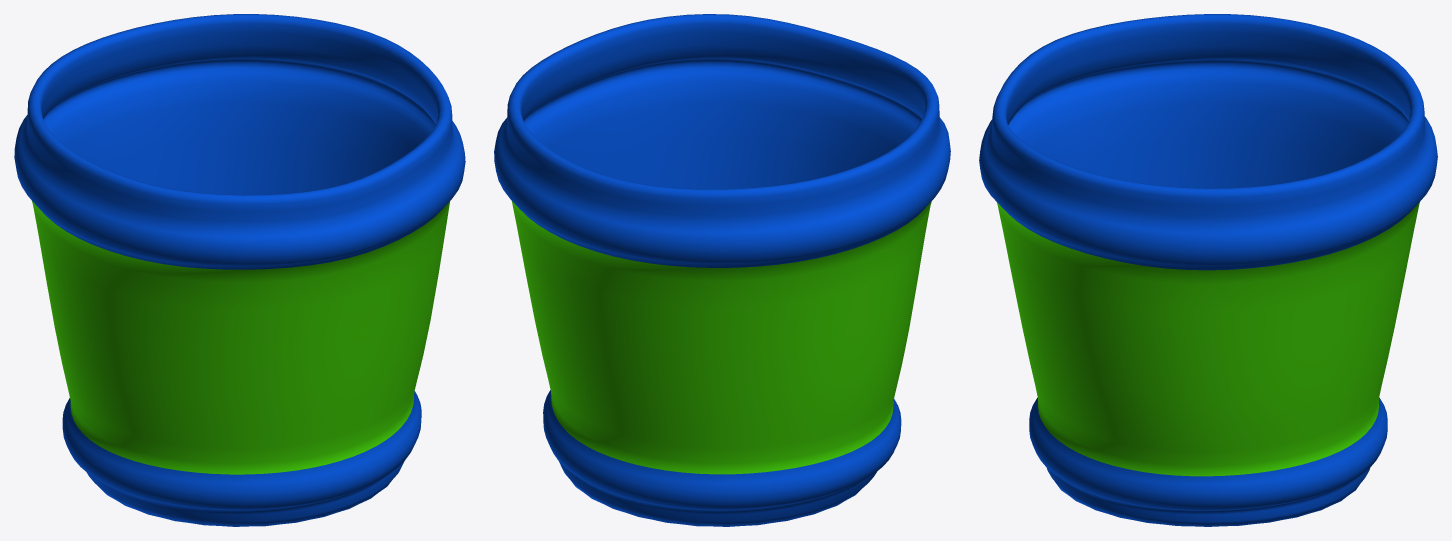
Rendered from experiment ai.fbx.
3 views of the same model, side by side, from view 1: azimuth 30°, elevation 25°; view 2: azimuth 150°, elevation 25°; view 3: azimuth 270°, elevation 25° (orthographic).
Parts seen in each view (by area): view 1: Cylinder.001; view 2: Cylinder.001; view 3: Cylinder.001.
Part boxes in pixels (<box>): Cylinder.001: <box>14,14,465,526</box>; Cylinder.001: <box>494,14,950,526</box>; Cylinder.001: <box>979,14,1437,526</box>.
Bounding box in the file's own units: 209 × 187 × 211.
